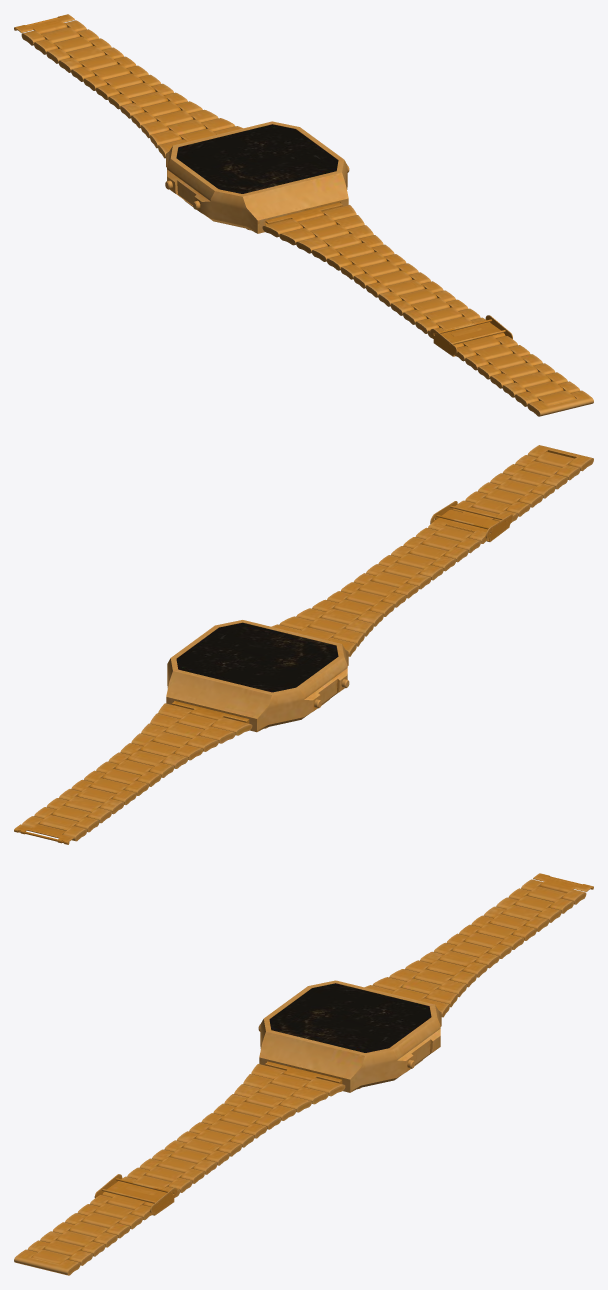
Rendered from nyb_gems_watch.glb.
3 renders of one model, top to bottom at view 1: azimuth 30°, elevation 25°; view 2: azimuth 150°, elevation 25°; view 3: azimuth 330°, elevation 25°, orthographic.
Parts seen in each view (by area): view 1: digital_wrist_watch; view 2: digital_wrist_watch; view 3: digital_wrist_watch.
Boxes of the visible parts, x1,y1,x2,y2 form: digital_wrist_watch: [14, 14, 593, 416]; digital_wrist_watch: [14, 445, 593, 844]; digital_wrist_watch: [14, 873, 593, 1275].
Size of the model in its own units: 0.0365 by 0.00834 by 0.2172.
Materials: 2 (2 with a texture image).
